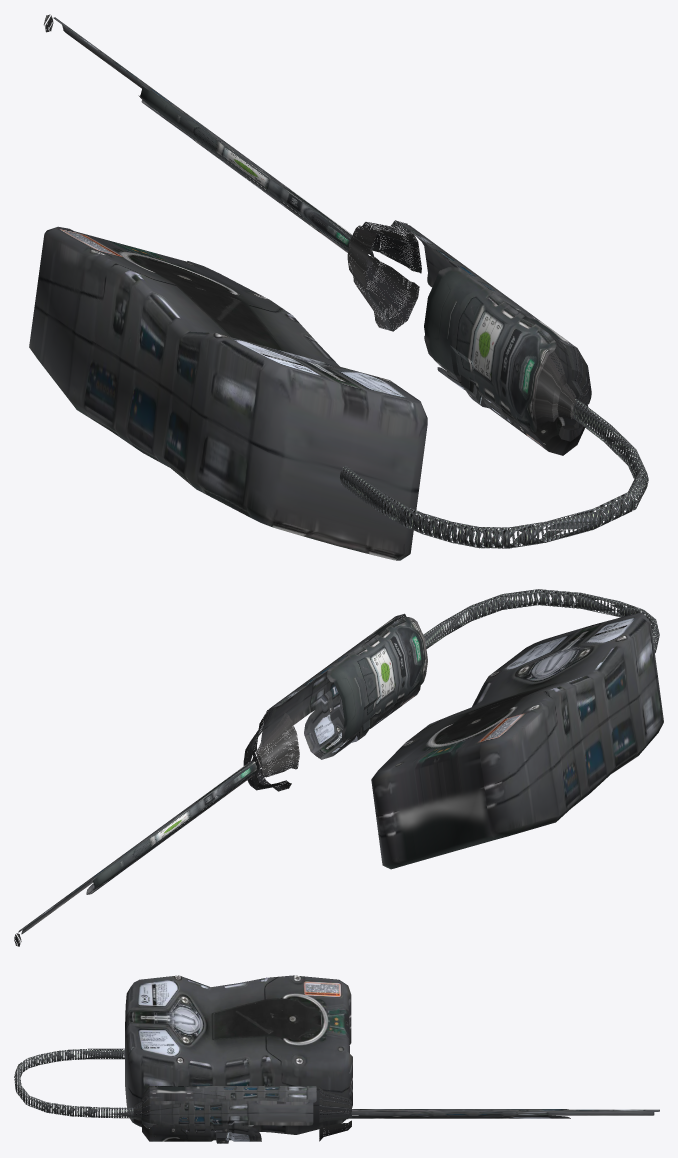
Rendered from MedidorGas.fbx.
3 views of the same model, one above another, from view 1: azimuth 30°, elevation 25°; view 2: azimuth 150°, elevation 25°; view 3: azimuth 270°, elevation 25° (orthographic). The views are drawn at different scales.
Visible parts, largest first — view 1: MedidorGas; view 2: MedidorGas; view 3: MedidorGas.
Part boxes in pixels (bbox=[...]): MedidorGas: bbox=[29, 14, 648, 560]; MedidorGas: bbox=[14, 589, 663, 946]; MedidorGas: bbox=[14, 975, 659, 1143].
Bounding box in the file's own units: 105 × 65.06 × 312.
